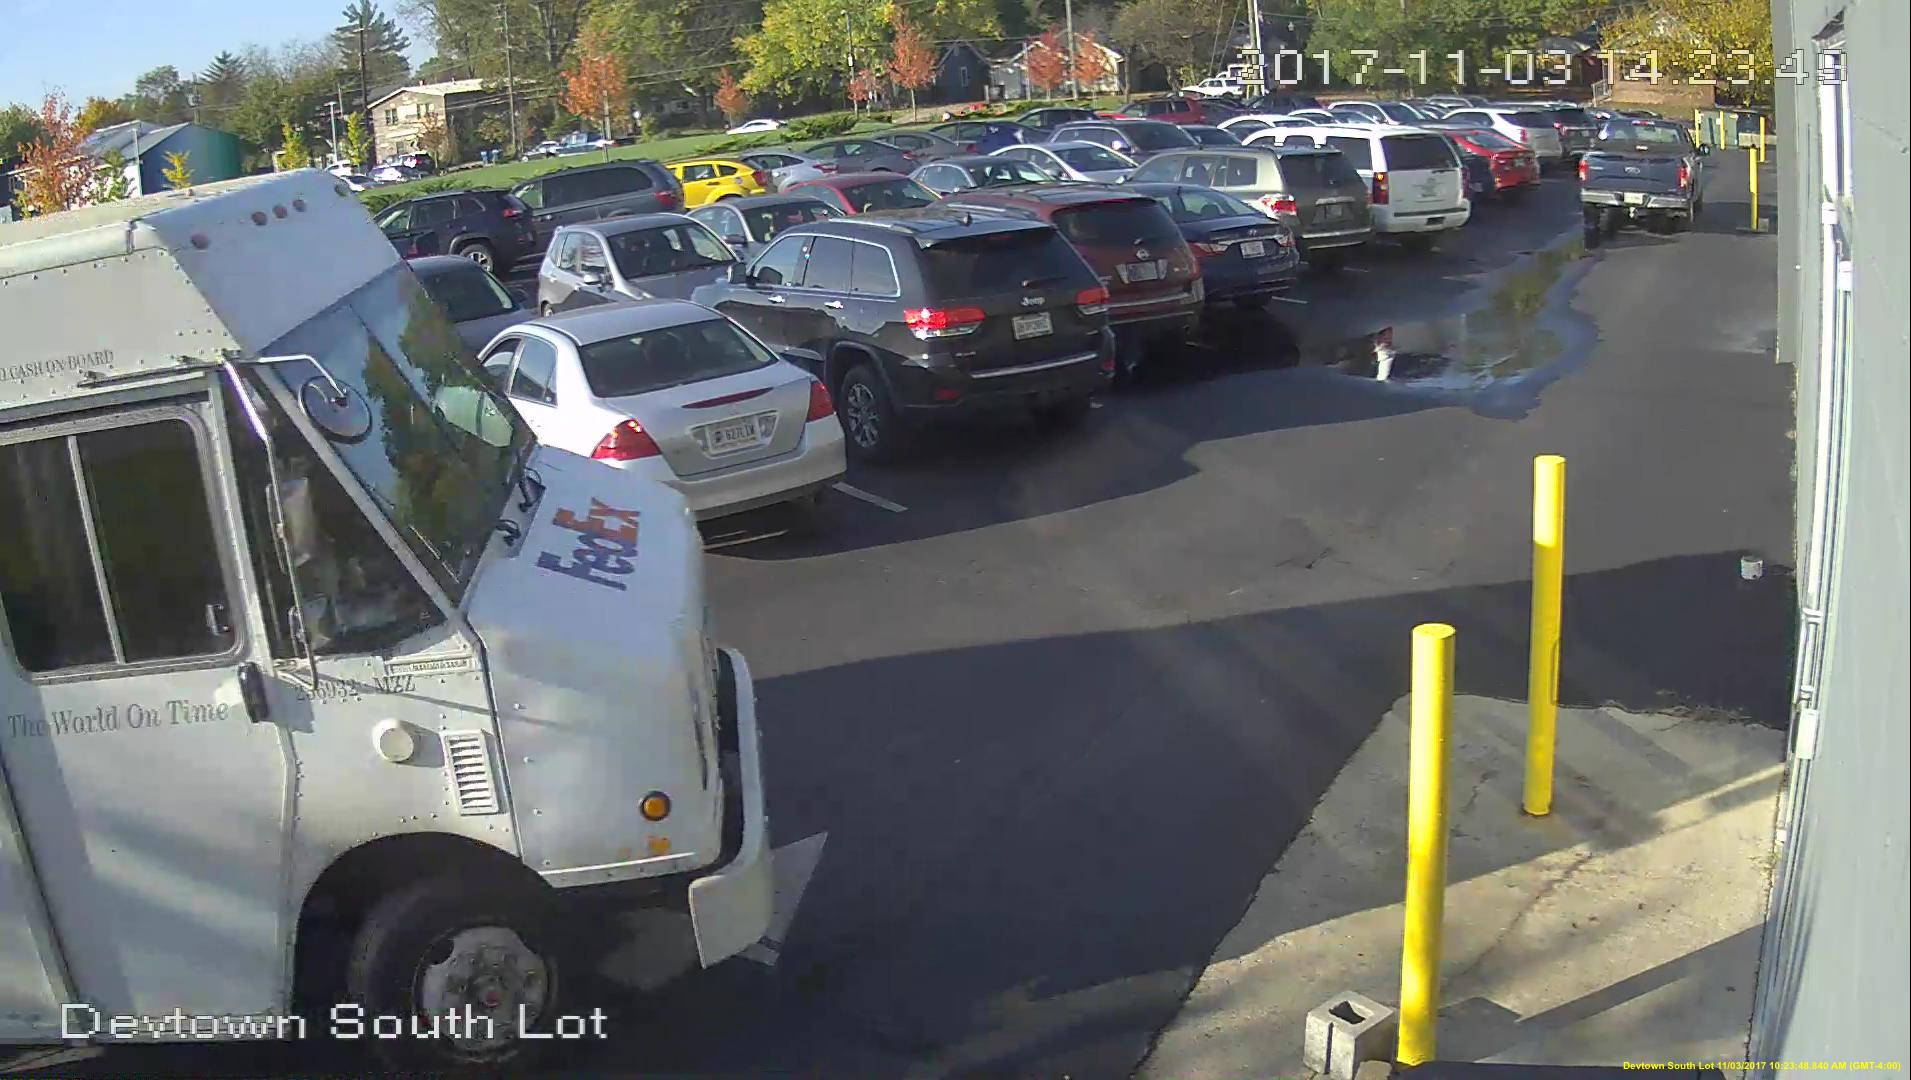fedex_truck: (3, 157, 785, 1052)
